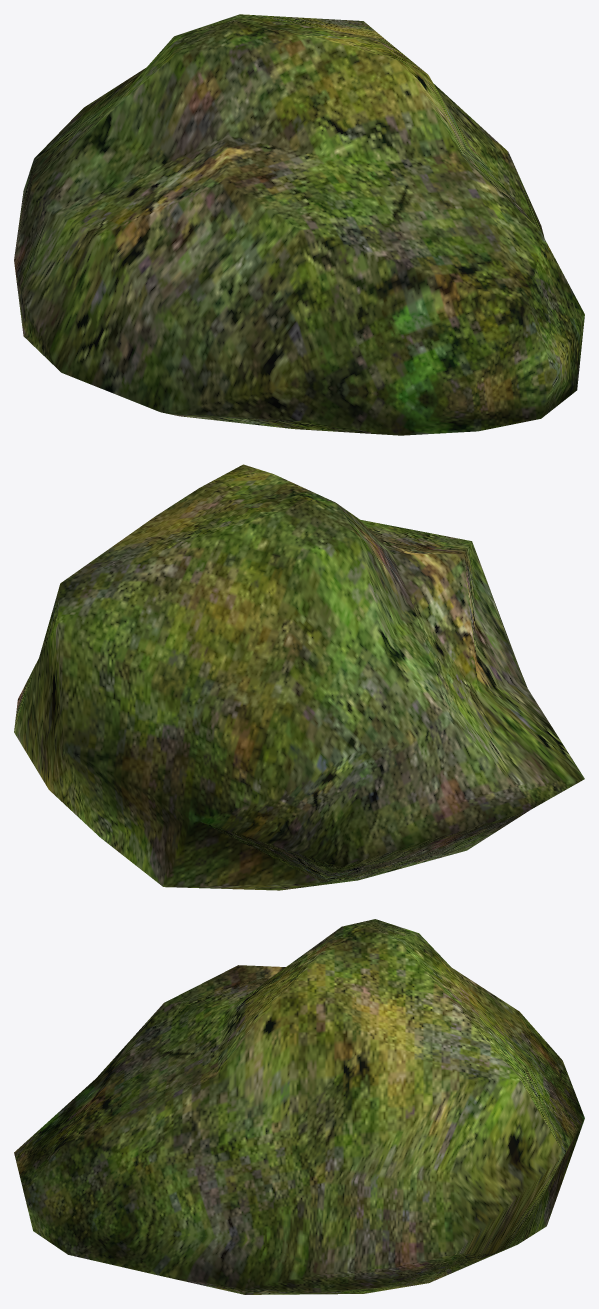
File: rock_endr_mossyrock_m_l0.fbx
3 renders of one model, top to bottom at view 1: azimuth 30°, elevation 25°; view 2: azimuth 150°, elevation 25°; view 3: azimuth 270°, elevation 25°, orthographic. The views are drawn at different scales.
Visible parts, largest first — view 1: mesh_node; view 2: mesh_node; view 3: mesh_node.
Boxes of the visible parts, box(x1,y1,x2,y2) form: mesh_node: box(14, 14, 584, 435); mesh_node: box(14, 464, 584, 890); mesh_node: box(14, 919, 584, 1294).
Bounding box in the file's own units: 1.5 × 0.9934 × 1.64.
